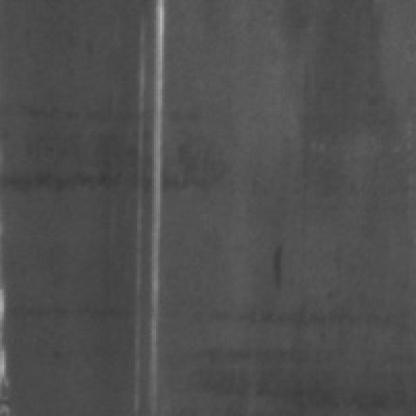scratches: (124, 0, 166, 406)
